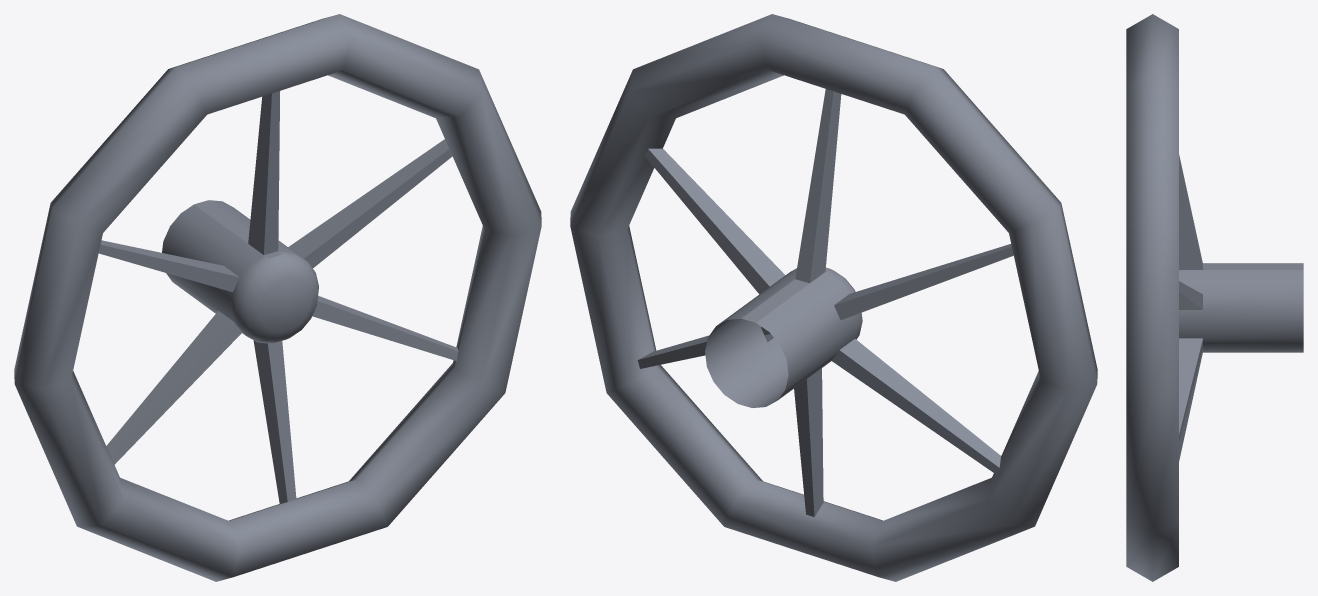
File: Pump@ValveTopRotate.fbx
3 views of the same model, side by side, from view 1: azimuth 30°, elevation 25°; view 2: azimuth 150°, elevation 25°; view 3: azimuth 270°, elevation 25° (orthographic). The views are drawn at different scales.
Parts seen in each view (by area): view 1: IsoValve_side_lp.003; view 2: IsoValve_side_lp.003; view 3: IsoValve_side_lp.003.
Part boxes in pixels (x1,y1,x2,y2): IsoValve_side_lp.003: [14, 14, 541, 581]; IsoValve_side_lp.003: [570, 14, 1097, 581]; IsoValve_side_lp.003: [1126, 14, 1303, 581].
Size of the model in its own units: 30.93 by 30.16 by 9.67.
